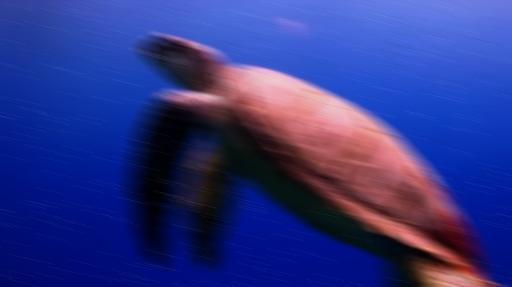Fish: (129, 33, 487, 286)
